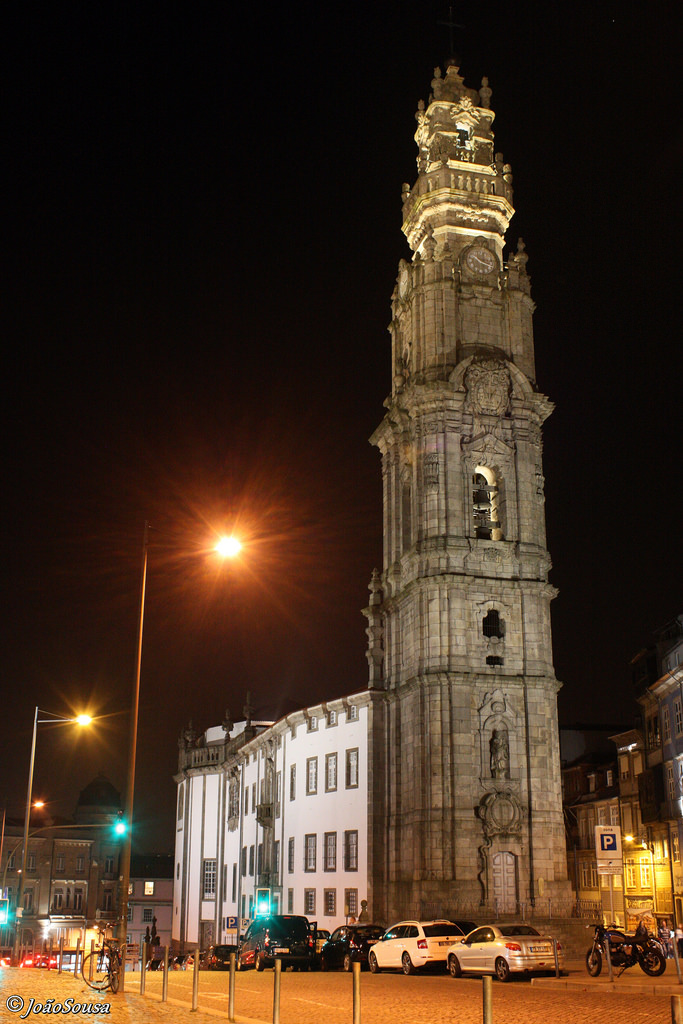clerigos: (361, 53, 578, 924)
